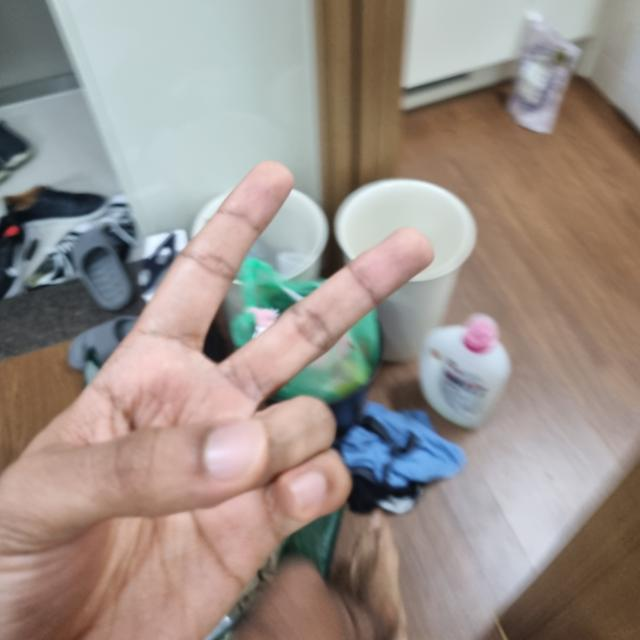Scissors: (0, 162, 431, 640)
